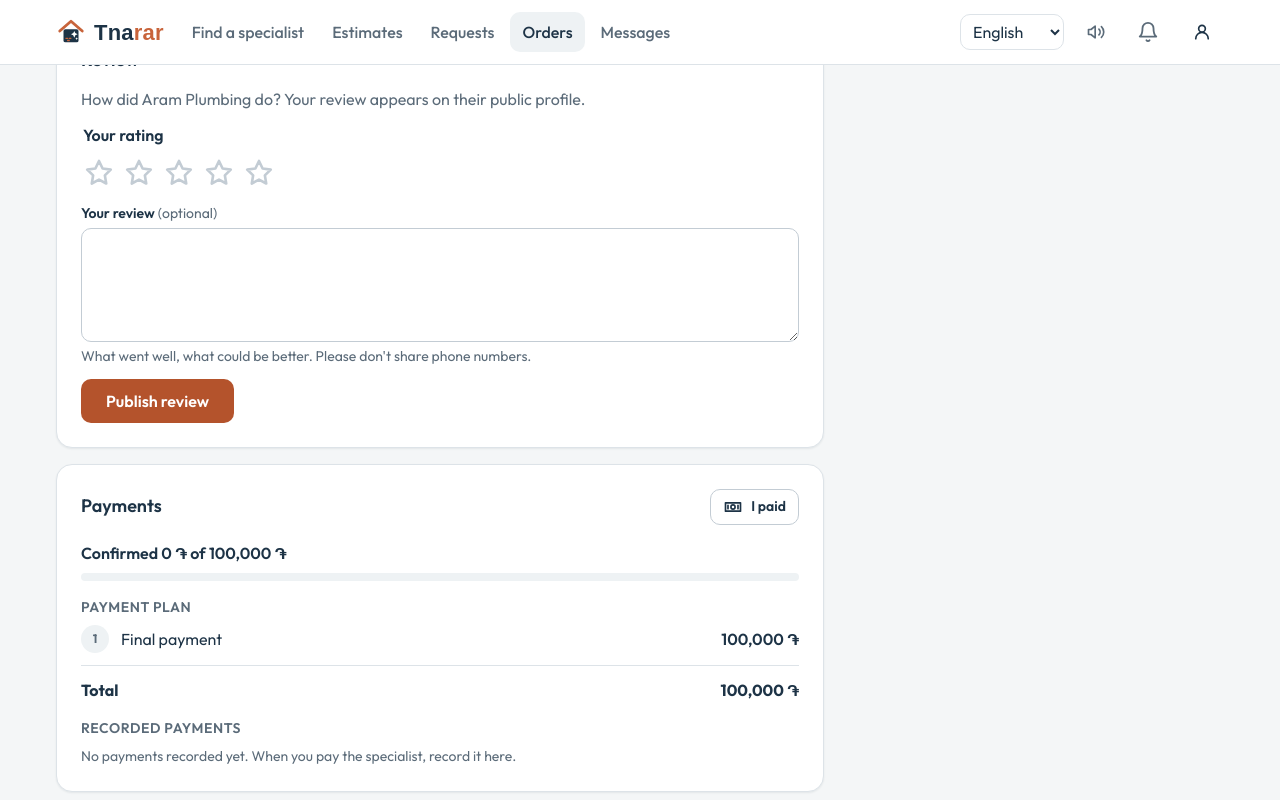
Order review › lets the customer review a completed order
The width and height of the screenshot is (1280, 800).
(page scrolled)
Click the button "Publish review" at (158, 401), box [81,379,234,423]
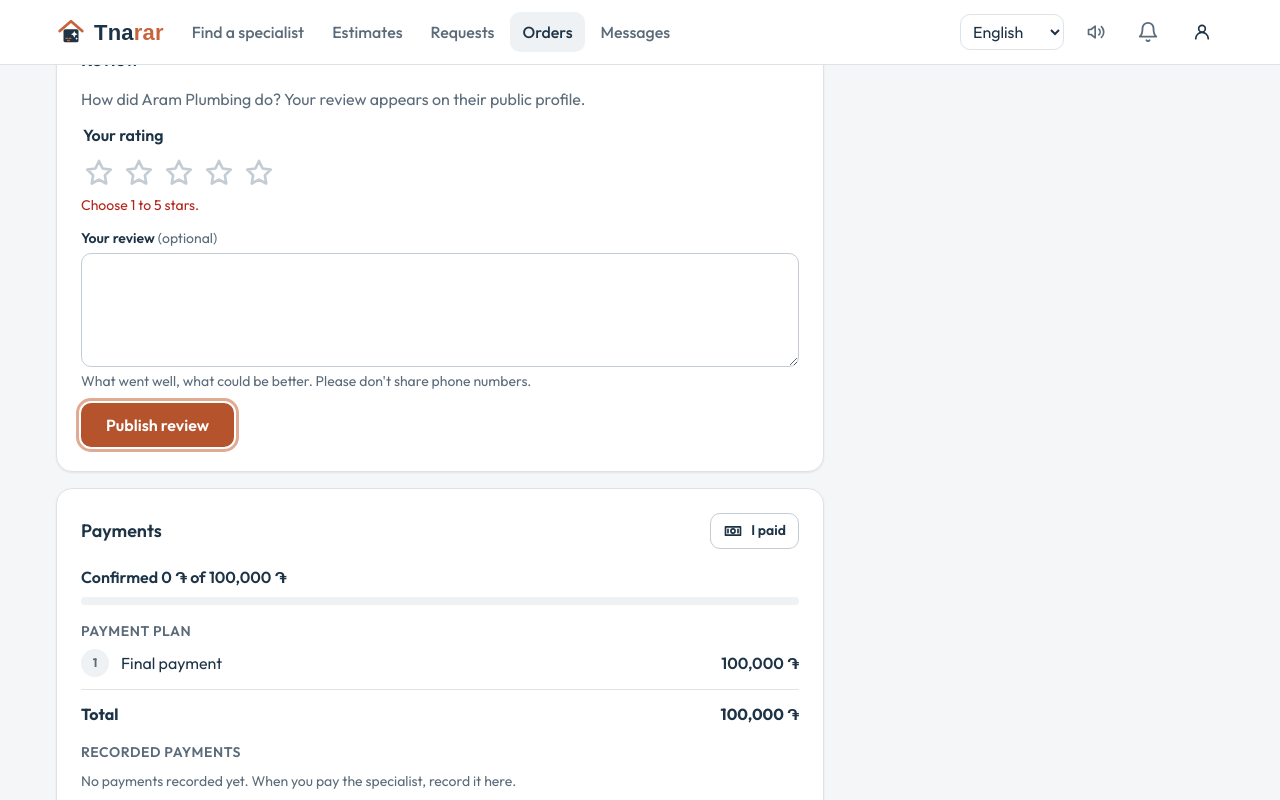
Expected: the text "Choose 1 to 5 stars." is shown, [81,196,199,214]
Click the radio button named "4 out of 5 stars" at (219, 173), box [201,155,237,191]
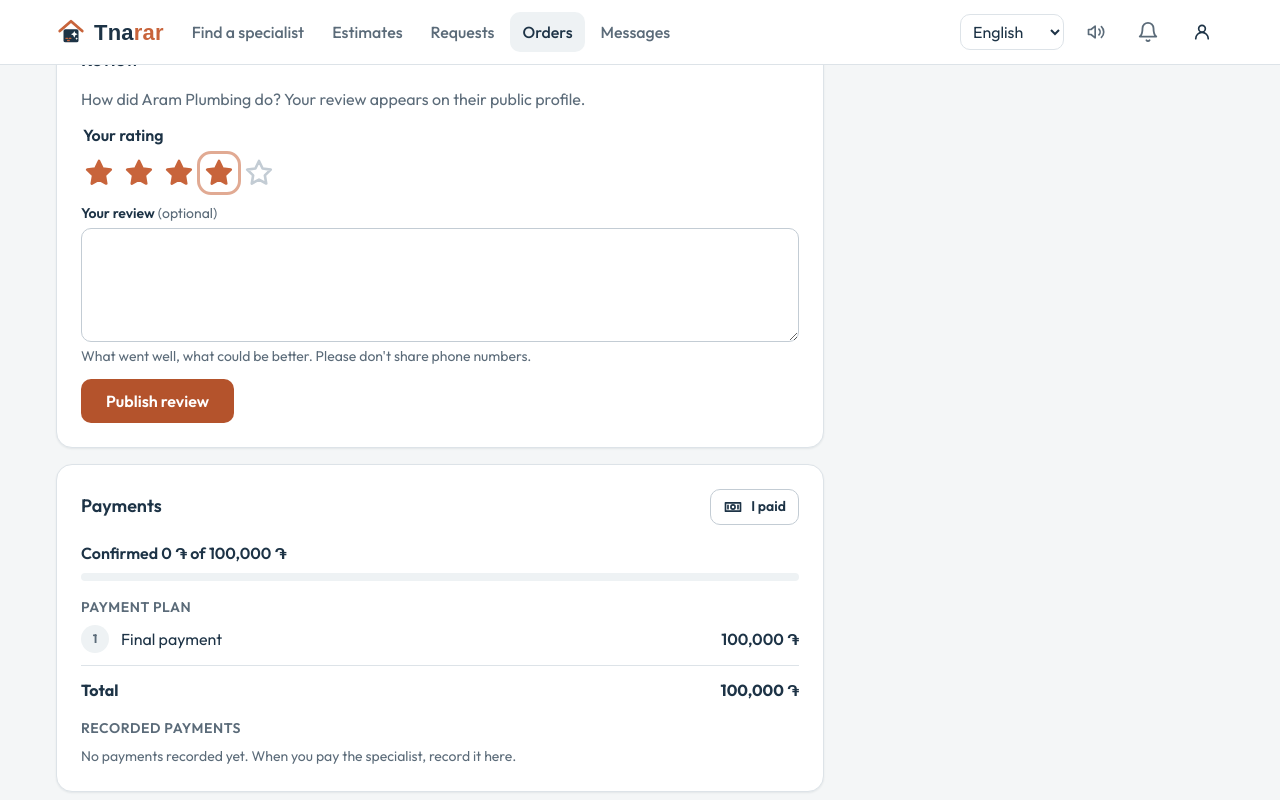
Type "Clean work" into the text box labelled "Your review" at (440, 285), box [81,228,799,342]
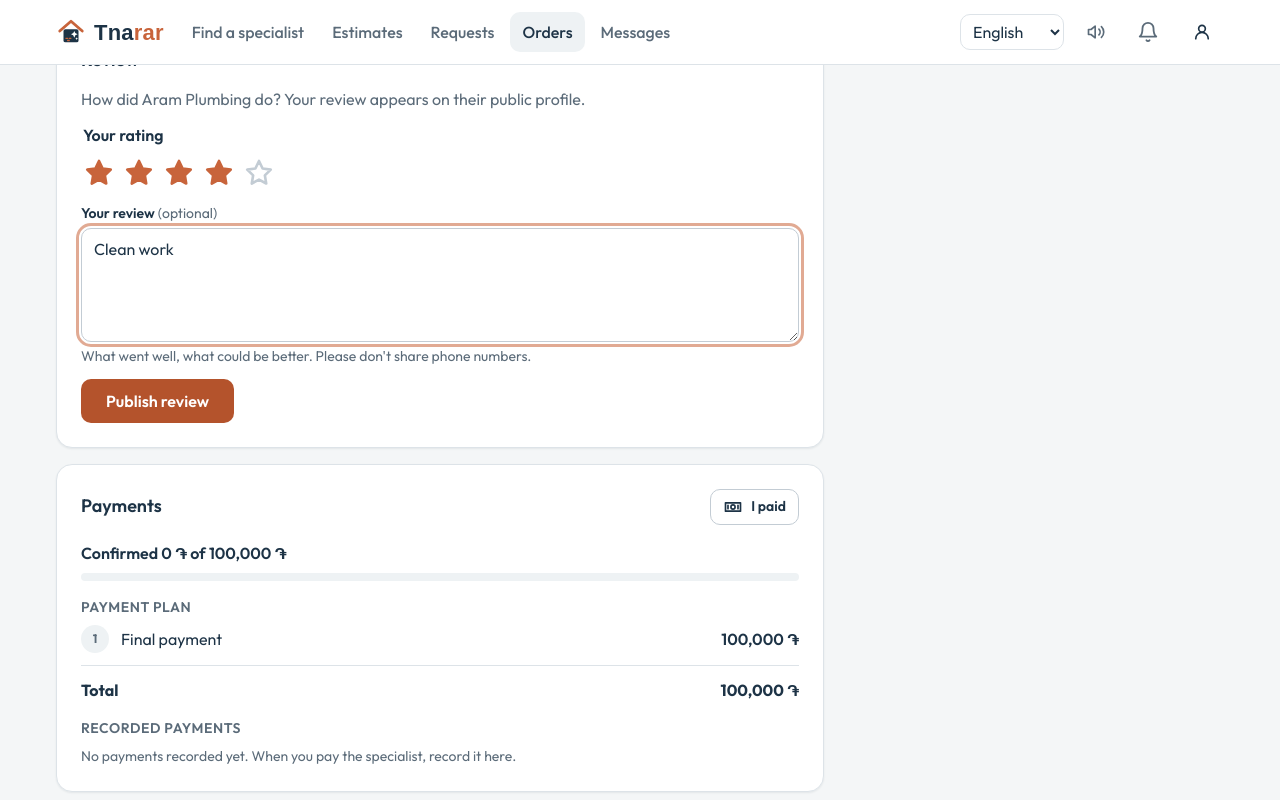
Click the button "Publish review" at (158, 401), box [81,379,234,423]
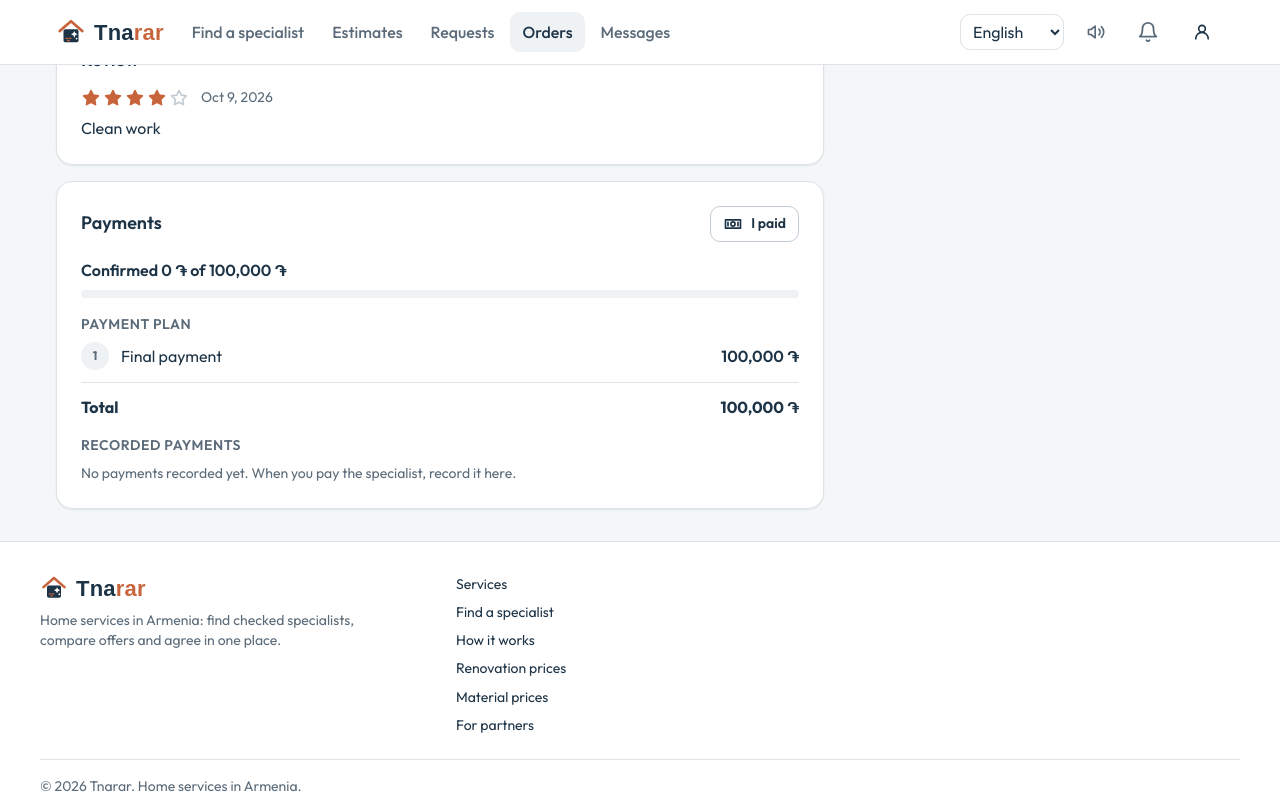
Expected: the picture named "4 out of 5" is shown, [81,88,189,108]
Expected: the text "Clean work" is shown, [81,118,161,138]
Expected: the button "Publish review" is gone
